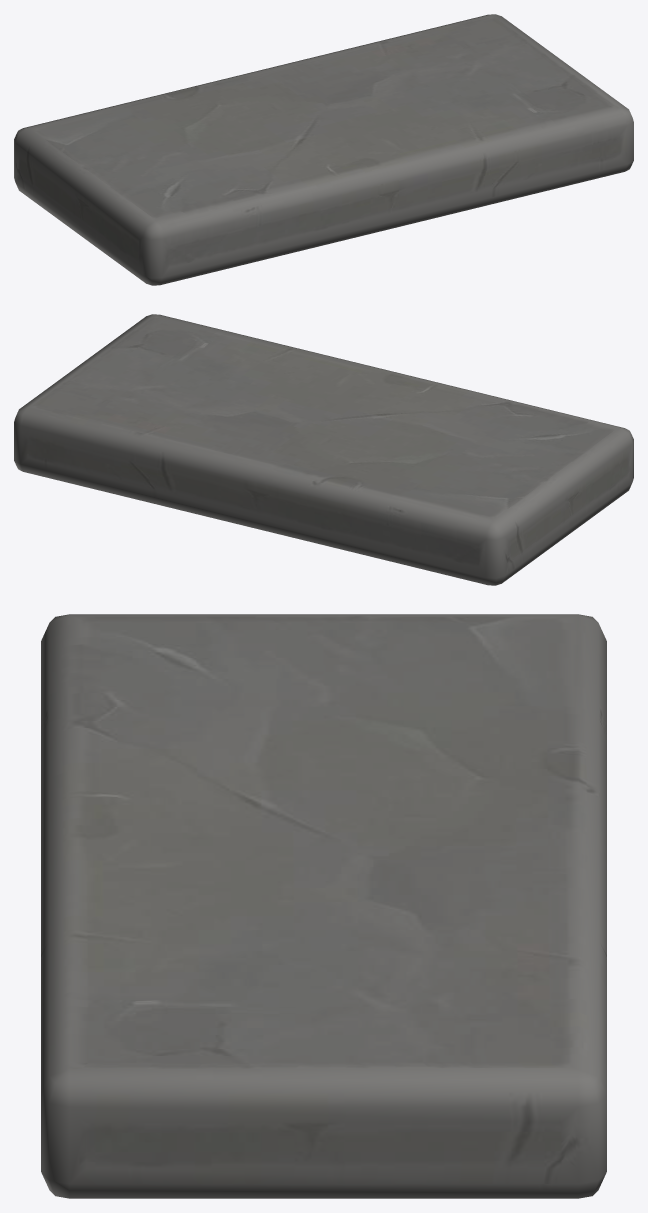
File: Brick_02.fbx
The picture shows the model from 3 angles, top to bottom: view 1: azimuth 30°, elevation 25°; view 2: azimuth 150°, elevation 25°; view 3: azimuth 270°, elevation 25°; orthographic projection. The views are drawn at different scales.
Visible parts, largest first — view 1: Brick_02; view 2: Brick_02; view 3: Brick_02.
Part boxes in pixels (bbox=[...]): Brick_02: bbox=[14, 14, 633, 285]; Brick_02: bbox=[14, 314, 633, 585]; Brick_02: bbox=[41, 614, 606, 1198].
Bounding box in the file's own units: 2 × 0.25 × 1.
